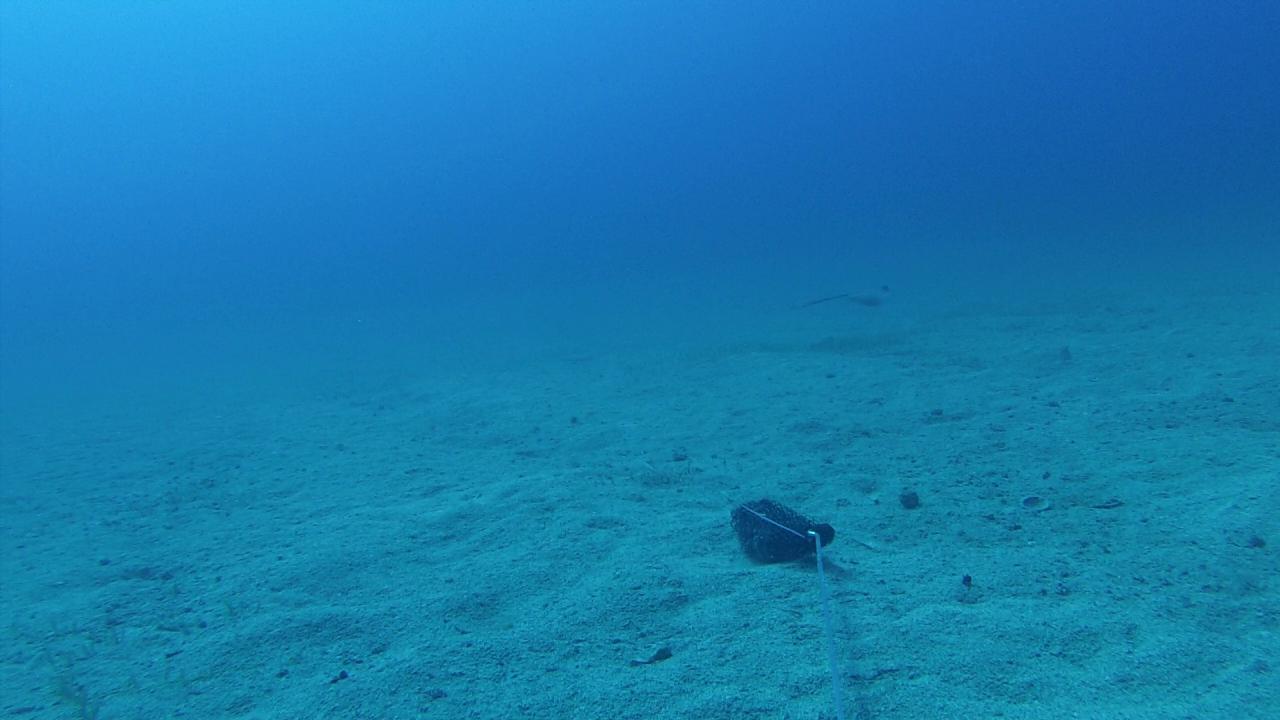dasyatis: (797, 279, 891, 307)
